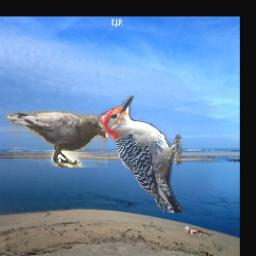Crow: (7, 112, 108, 169)
Woodpecker: (98, 96, 183, 213)
